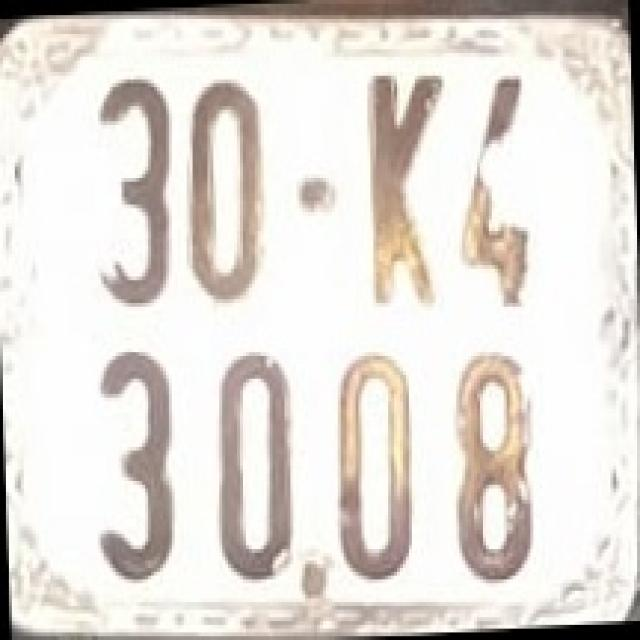0: (332, 341, 421, 583), (213, 345, 300, 583), (186, 76, 266, 303)
3: (95, 345, 178, 583), (92, 72, 175, 307)
4: (460, 64, 540, 314)
8: (450, 341, 540, 587)
K: (356, 57, 444, 314)
